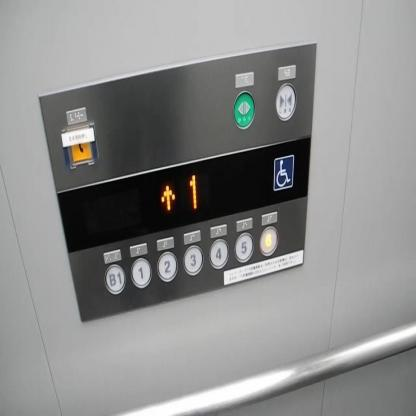1: (130, 257, 152, 288)
2: (156, 250, 178, 282)
3: (182, 244, 204, 275)
4: (209, 238, 230, 269)
5: (234, 230, 254, 262)
6: (258, 226, 278, 256)
B1: (104, 264, 126, 294)
CH: (273, 154, 293, 190)
call: (60, 122, 98, 168)
close: (274, 81, 297, 121)
open: (232, 90, 256, 129)
